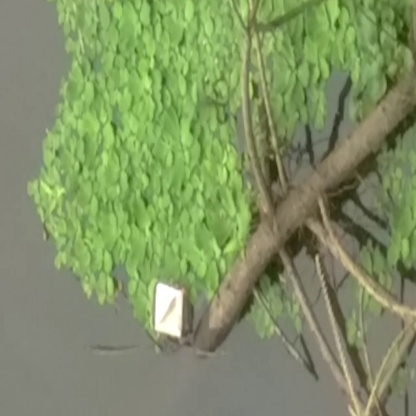branch: (199, 67, 411, 359)
